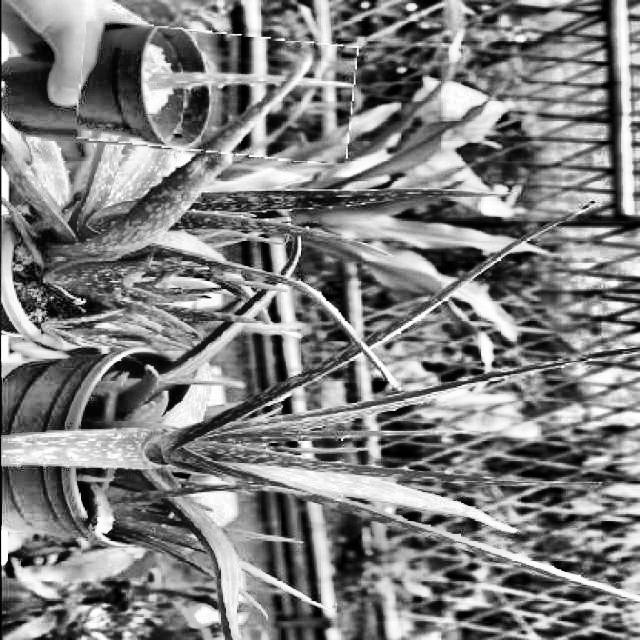plants: (76, 25, 353, 158)
